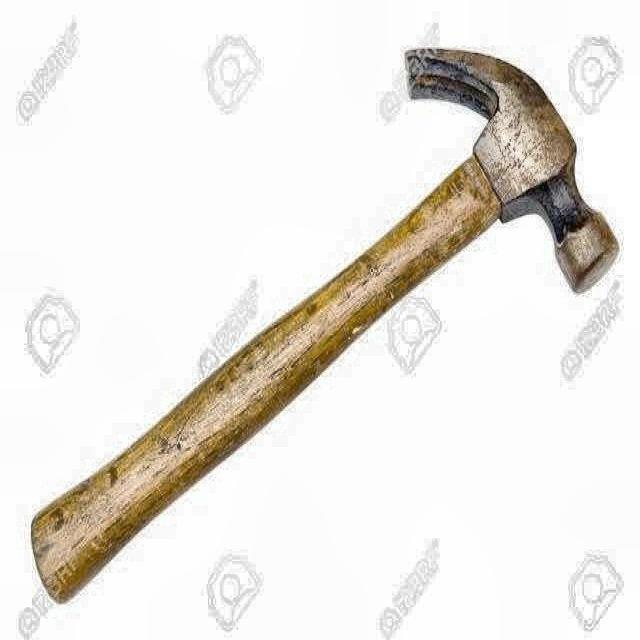hammer: (30, 45, 620, 603)
